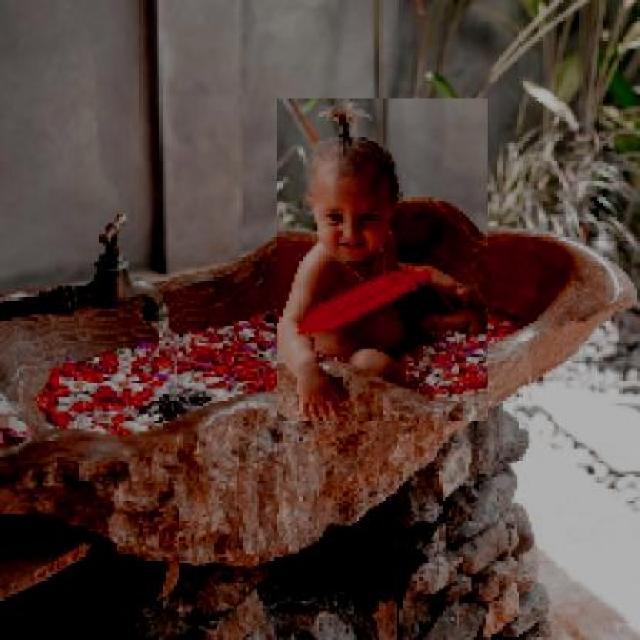child: (275, 99, 488, 422)
